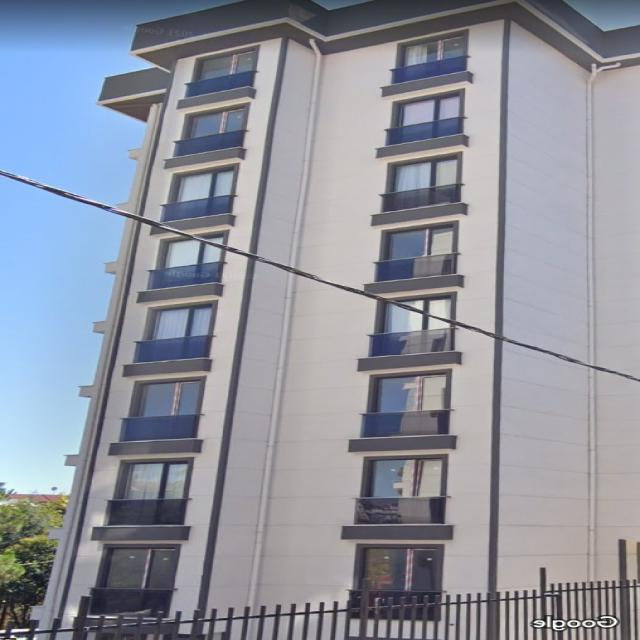Building: (36, 0, 640, 640)
